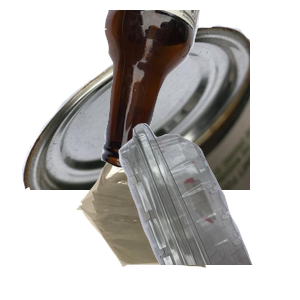glass: (99, 10, 300, 170)
metal: (19, 22, 259, 202)
plastic: (71, 120, 300, 300)
trash: (74, 148, 273, 300)
